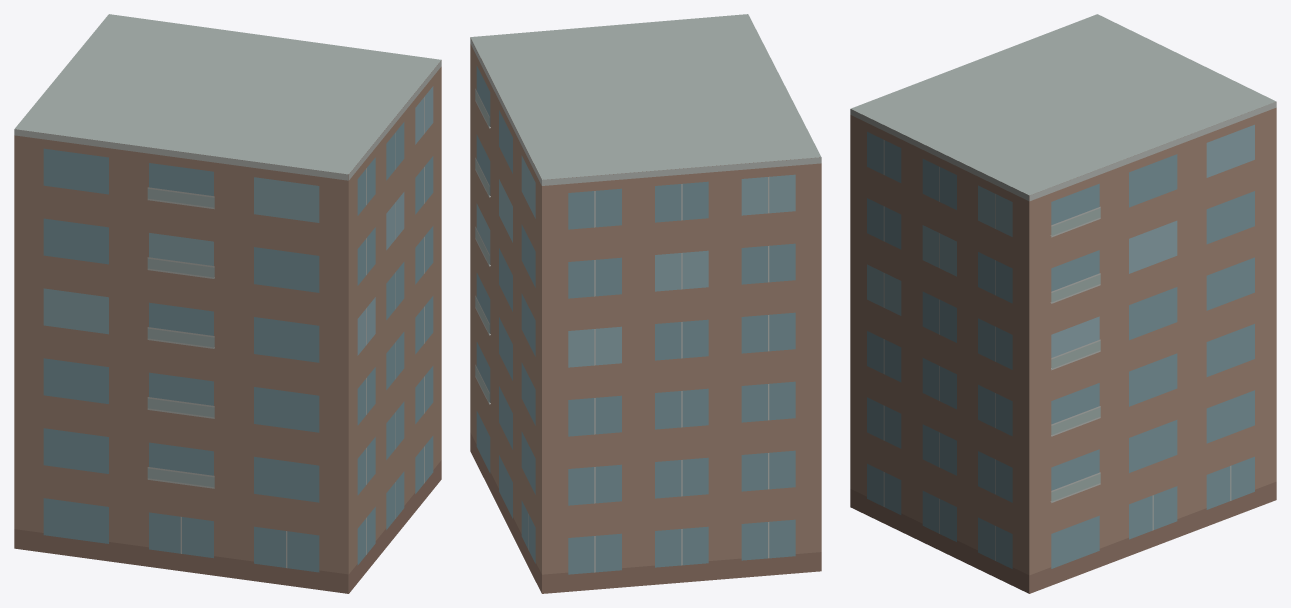
The model's file is survey-upis-32545449.glb.
3 views of the same model, side by side, from view 1: azimuth 30°, elevation 25°; view 2: azimuth 150°, elevation 25°; view 3: azimuth 270°, elevation 25° (orthographic). The views are drawn at different scales.
Parts seen in each view (by area): view 1: survey-upis-32545449.tmp; view 2: survey-upis-32545449.tmp; view 3: survey-upis-32545449.tmp.
Part boxes in pixels (x1,y1,x2,y2): survey-upis-32545449.tmp: (14, 14, 441, 593); survey-upis-32545449.tmp: (470, 14, 821, 593); survey-upis-32545449.tmp: (850, 14, 1276, 593).
Bounding box in the file's own units: 15.98 × 16.35 × 15.86.
